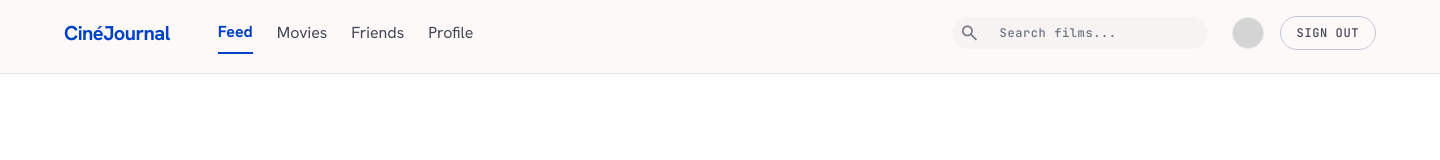
Scenario: the app bar with somebody signed in › goes back to offering a sign in once signed out, with no reload
Click the button "Sign out".
click(1328, 33)  # box 1280,16 -> 1376,50
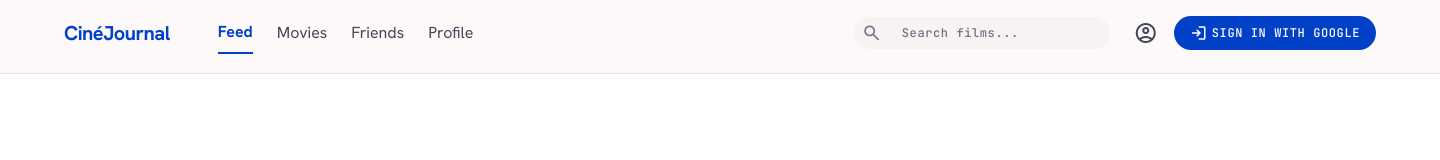
Expected: the button "Sign in with Google" is shown, 1174,16 -> 1376,50
